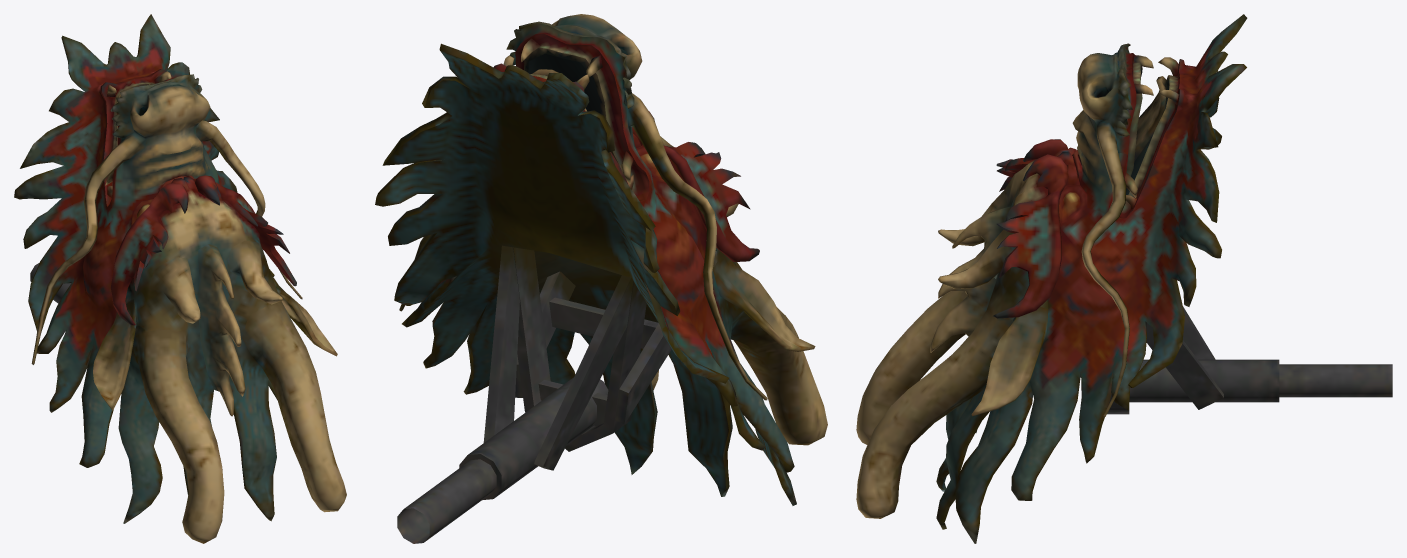
Rendered from DragonHead.fbx.
The picture shows the model from 3 angles, left to right: view 1: azimuth 30°, elevation 25°; view 2: azimuth 150°, elevation 25°; view 3: azimuth 270°, elevation 25°; orthographic projection. The views are drawn at different scales.
Visible parts, largest first — view 1: set_0_group_0; view 2: set_0_group_0; view 3: set_0_group_0.
Boxes of the visible parts, x1,y1,x2,y2 form: set_0_group_0: (14, 14, 346, 543); set_0_group_0: (375, 14, 827, 543); set_0_group_0: (856, 14, 1392, 543).
Size of the model in its own units: 64.56 by 93.46 by 96.25.
Materials: 1 (1 with a texture image).
